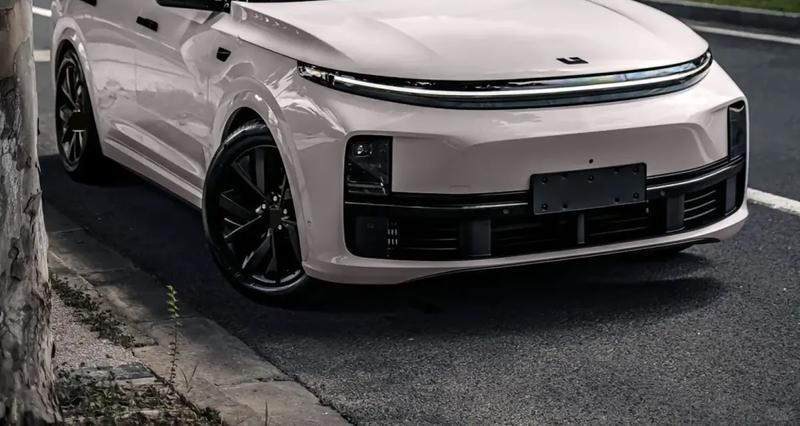Li Auto: (556, 56, 589, 66)
